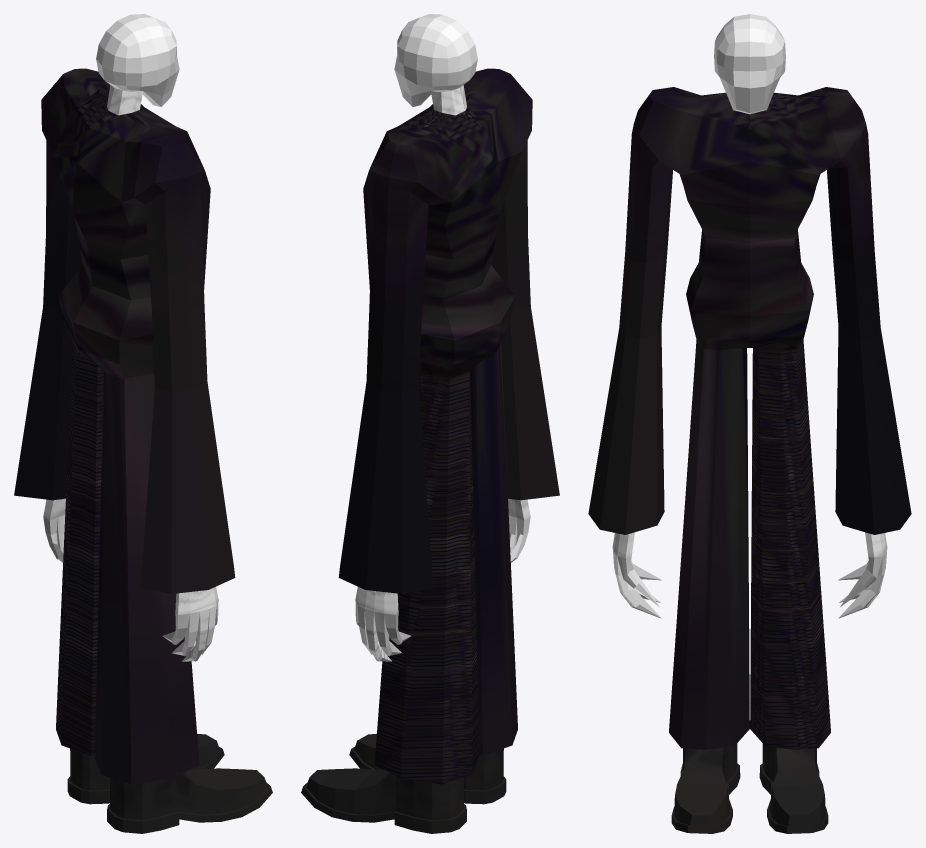
File: SlenderGuy.fbx
The picture shows the model from 3 angles, left to right: view 1: azimuth 30°, elevation 25°; view 2: azimuth 150°, elevation 25°; view 3: azimuth 270°, elevation 25°; orthographic projection.
Visible parts, largest first — view 1: Cube; view 2: Cube; view 3: Cube.
Boxes of the visible parts, <box> form: Cube: <box>14,14,272,833</box>; Cube: <box>301,14,559,833</box>; Cube: <box>588,14,911,833</box>.
Size of the model in its own units: 326 by 1428 by 540.
1 material, 1 textured.
